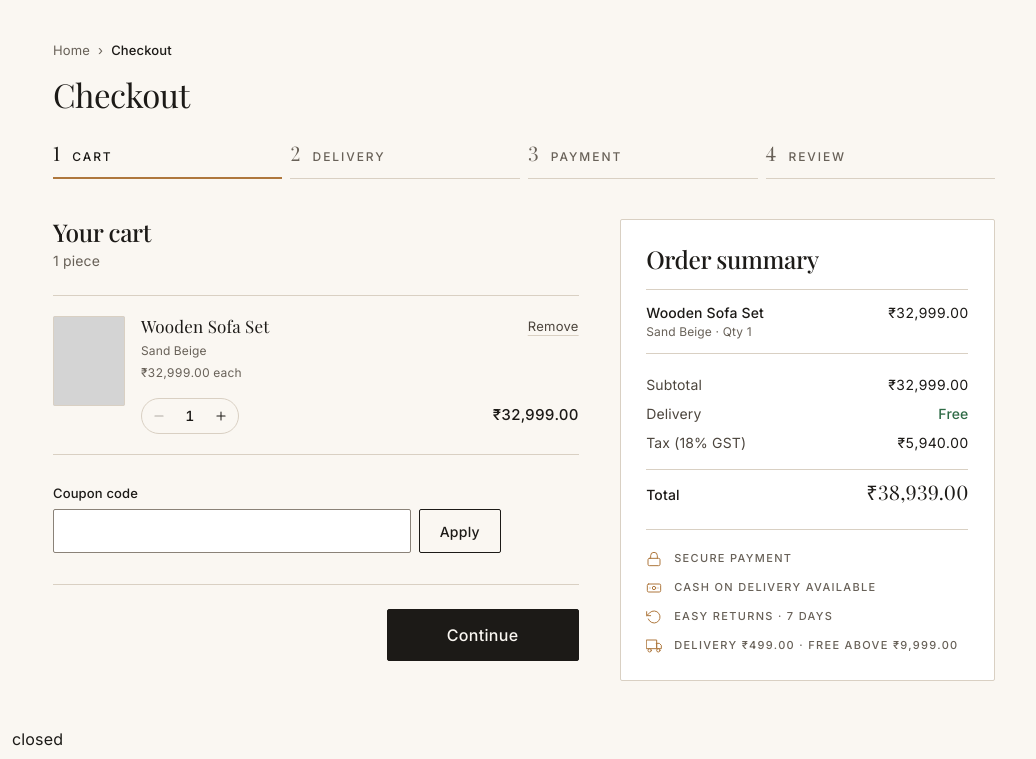
Test case: the coupon › a capped percentage coupon says so
Check: the list named "Our promises" is shown, box x1=646 y1=529 x2=968 y2=654
Type "FLAT10" into the field labelled "Coupon code". click: (232, 532)
box: x1=53 y1=510 x2=411 y2=554
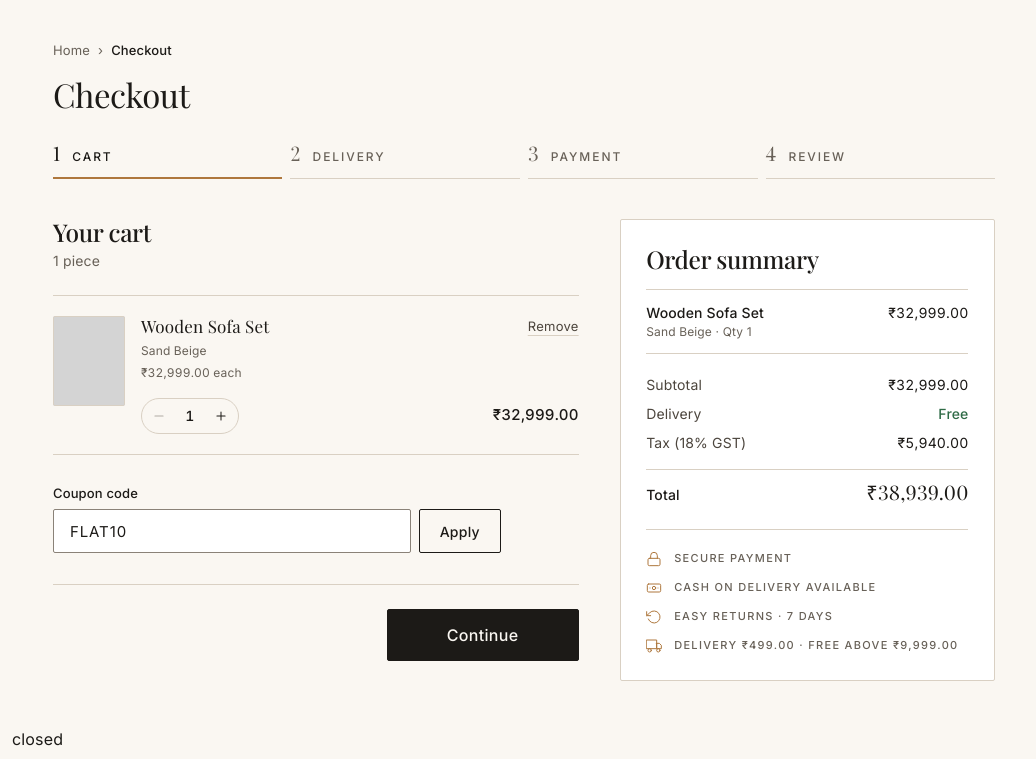
Click the button "Apply". click: (460, 532)
box: x1=419 y1=510 x2=501 y2=554
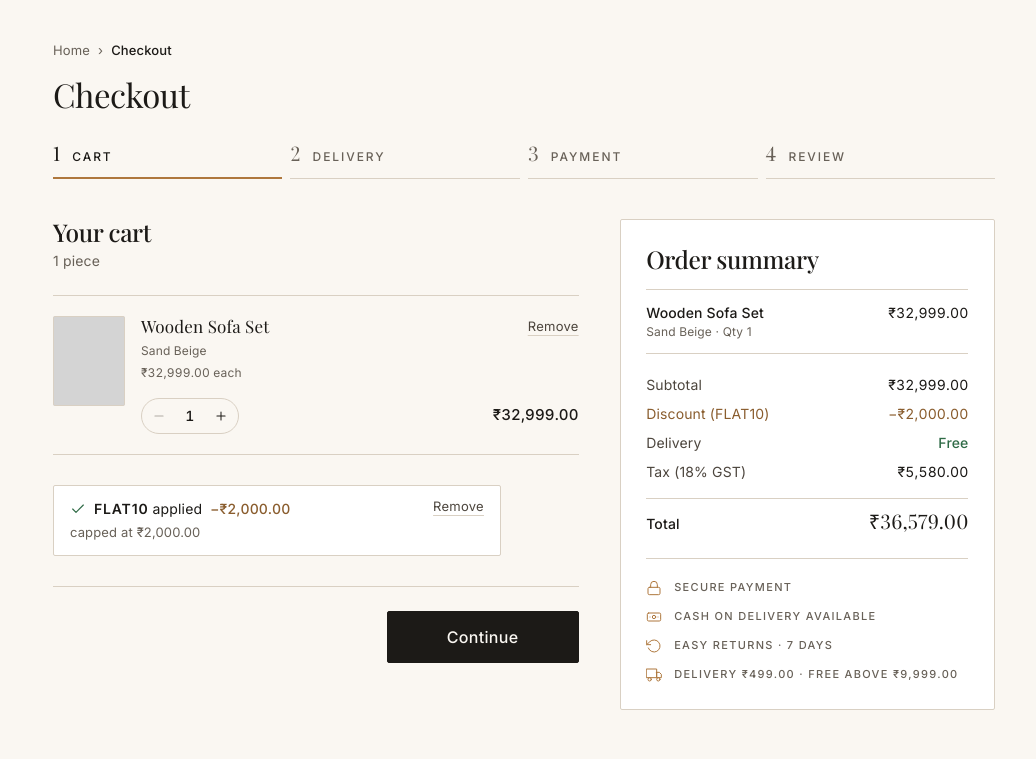
Check: the text "capped at ₹2,000.00" is shown, box x1=70 y1=523 x2=200 y2=543
